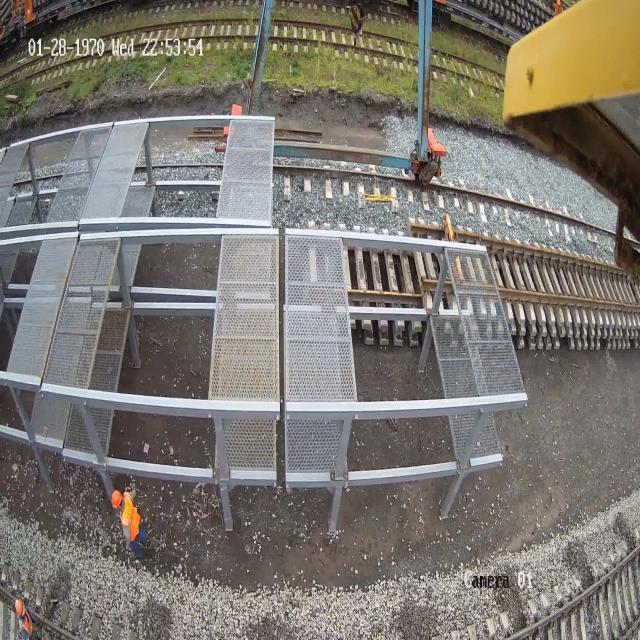Helmet: (111, 489, 122, 508), (15, 598, 24, 616)
Person: (111, 489, 146, 559), (14, 598, 36, 639)
